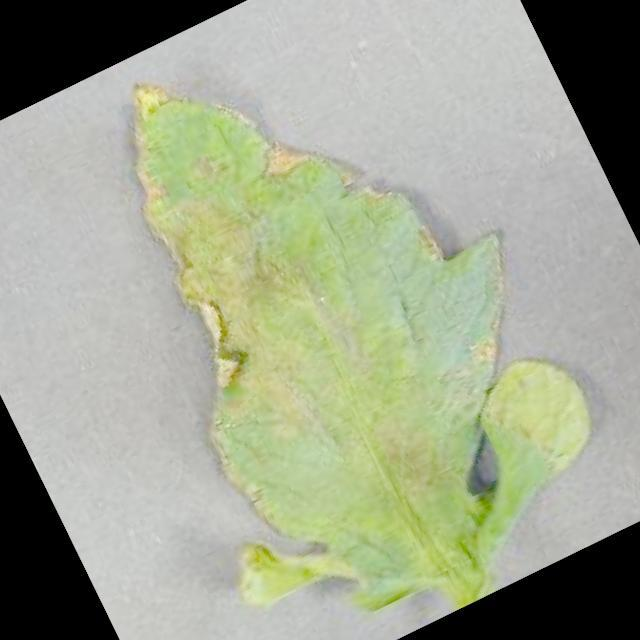Tomato bacterial spot leaf: (17, 0, 634, 640)
